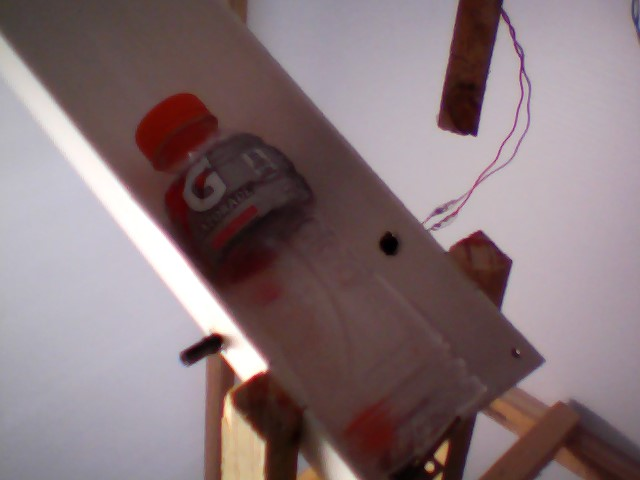plastico: (123, 91, 509, 480)
